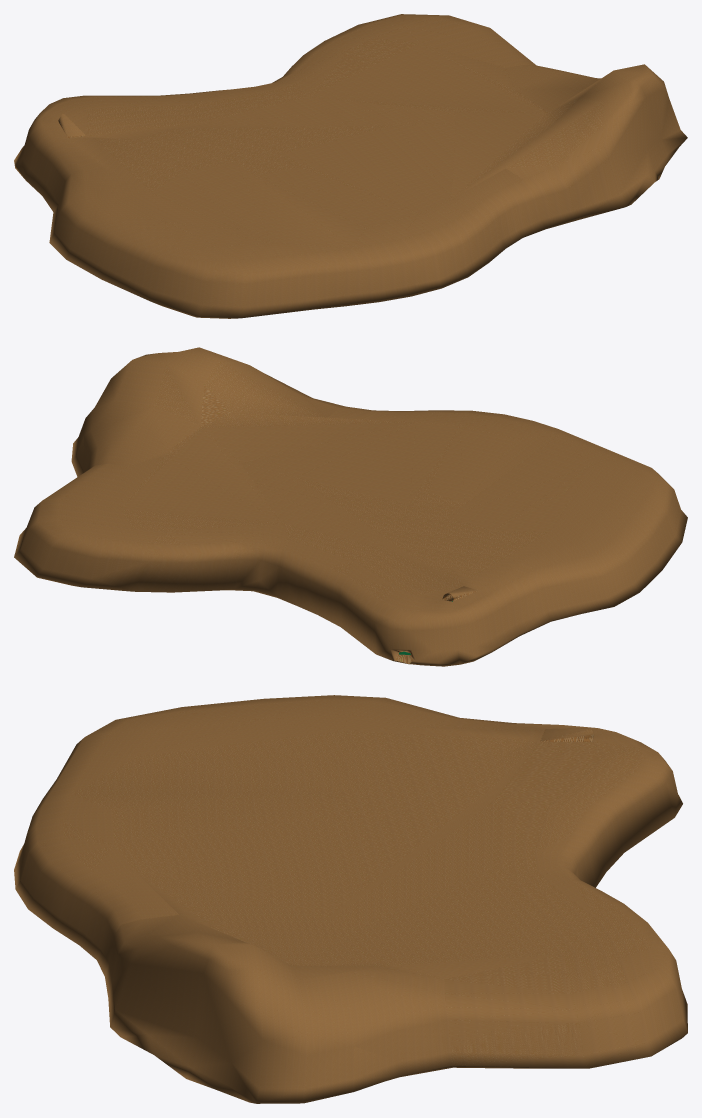
The model's file is isla_casa_chiri.glb.
The picture shows the model from 3 angles, top to bottom: view 1: azimuth 30°, elevation 25°; view 2: azimuth 150°, elevation 25°; view 3: azimuth 270°, elevation 25°; orthographic projection. The views are drawn at different scales.
Parts seen in each view (by area): view 1: isla_imposible_chiri_house; view 2: isla_imposible_chiri_house; view 3: isla_imposible_chiri_house.
Part boxes in pixels (box(x1,y1,x2,y2)): isla_imposible_chiri_house: box(14, 14, 687, 318); isla_imposible_chiri_house: box(14, 347, 687, 666); isla_imposible_chiri_house: box(14, 695, 687, 1103).
Size of what is drawn, in the model's own units: 378 by 58.41 by 289.
7 materials, 2 textured.
